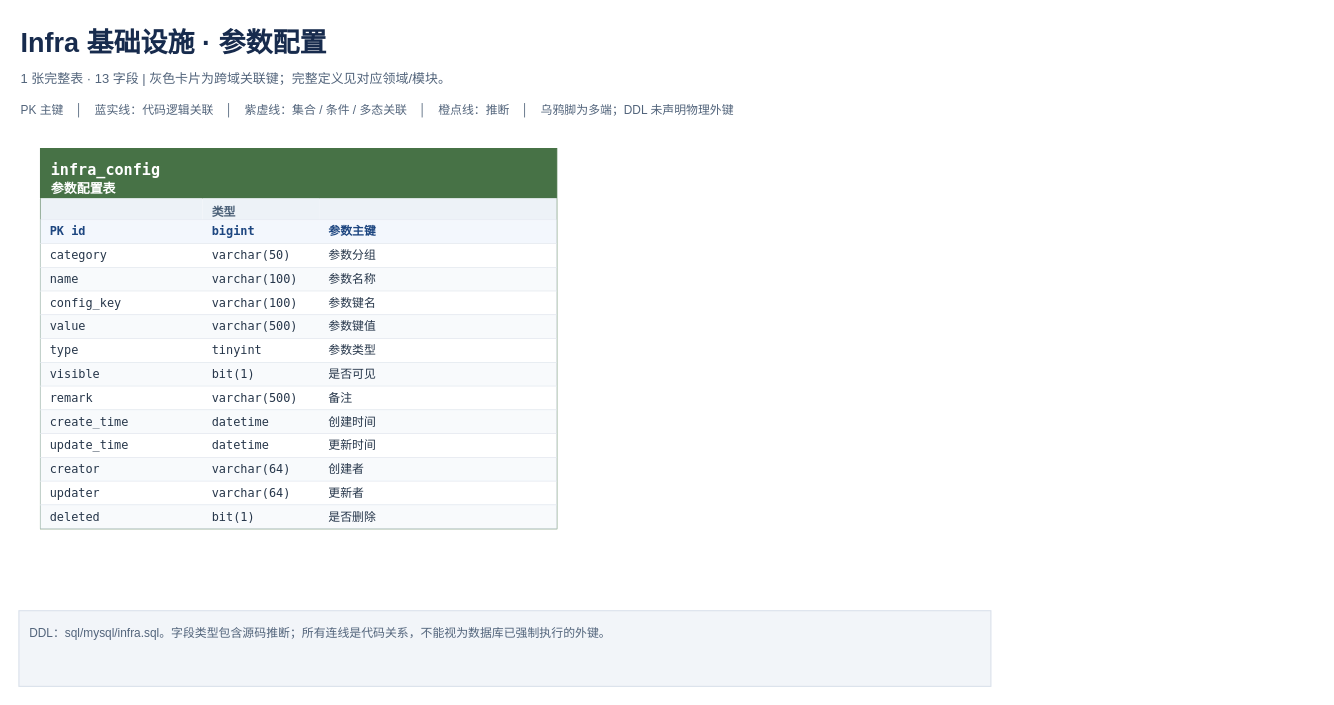
This 1334x705 diagram has some shape labels left out. The box of each missing label's shape, as (x1, y1, x2, y2) in pixels:
字段名: (40, 198, 202, 219)
字段注释: (319, 198, 556, 219)
